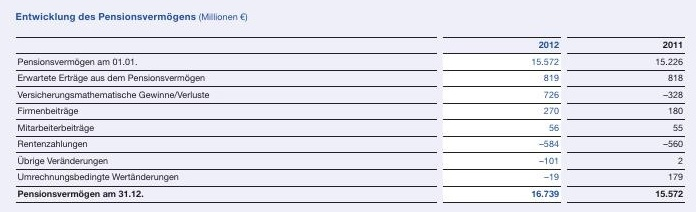table: (0, 0, 696, 212)
